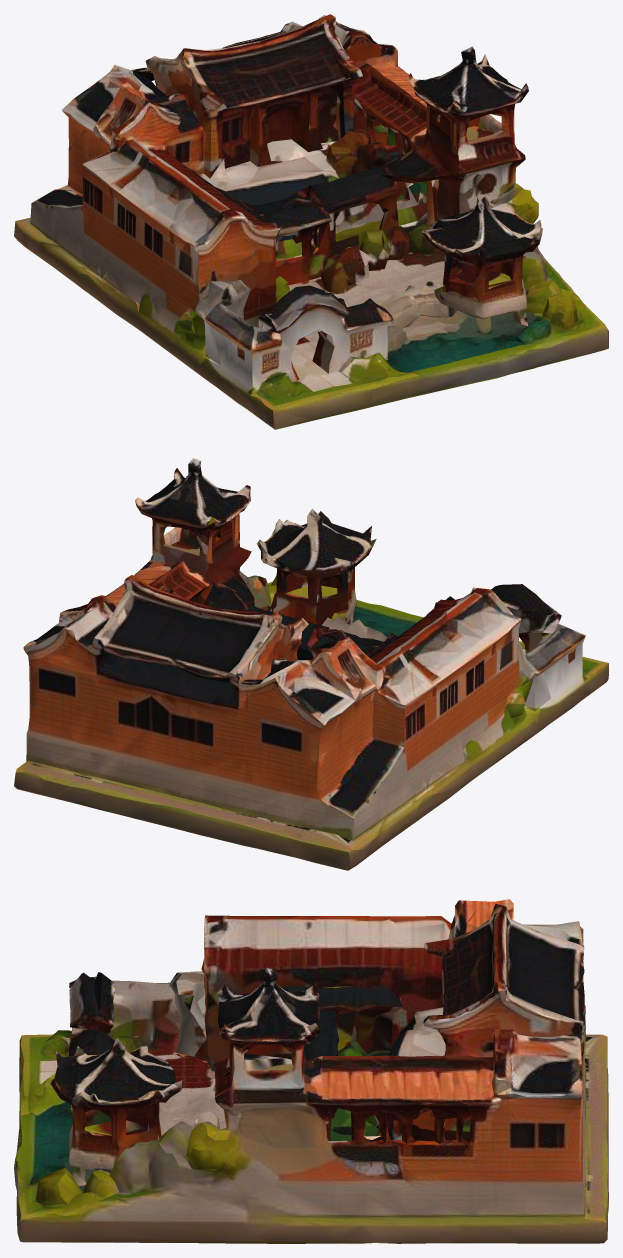
Rendered from lin-family-mansion-garden.glb.
The picture shows the model from 3 angles, top to bottom: view 1: azimuth 30°, elevation 25°; view 2: azimuth 150°, elevation 25°; view 3: azimuth 270°, elevation 25°; orthographic projection. The views are drawn at different scales.
Visible parts, largest first — view 1: logan-textured.obj; view 2: logan-textured.obj; view 3: logan-textured.obj.
Part boxes in pixels (x1,y1,x2,y2): logan-textured.obj: (14, 14, 608, 429); logan-textured.obj: (14, 458, 608, 870); logan-textured.obj: (14, 899, 608, 1243).
Size of the model in its own units: 0.7718 by 0.4849 by 1.
Materials: 1 (1 with a texture image).
